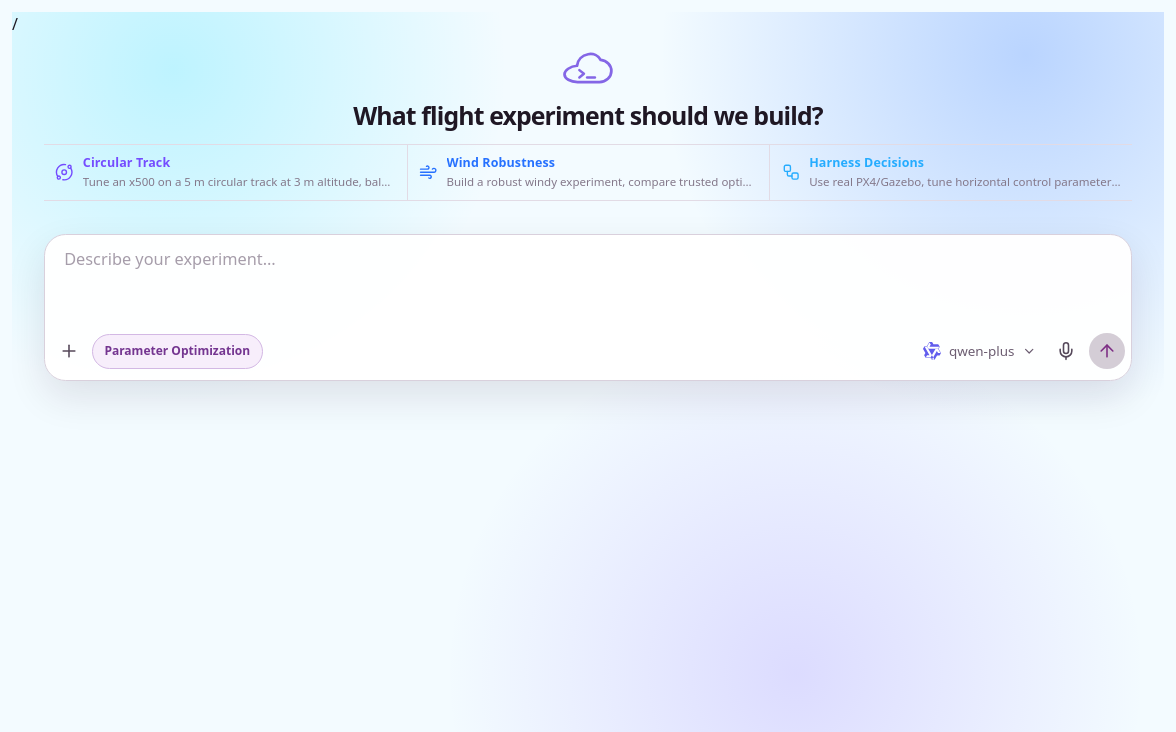
it: conversational experiment drafting › preserves a follow-up typed while the previous turn is pending
Type "Tune one safe circular-track experiment." into the text box labelled "Describe your experiment…" at (588, 281), box [45,235,1131,326]
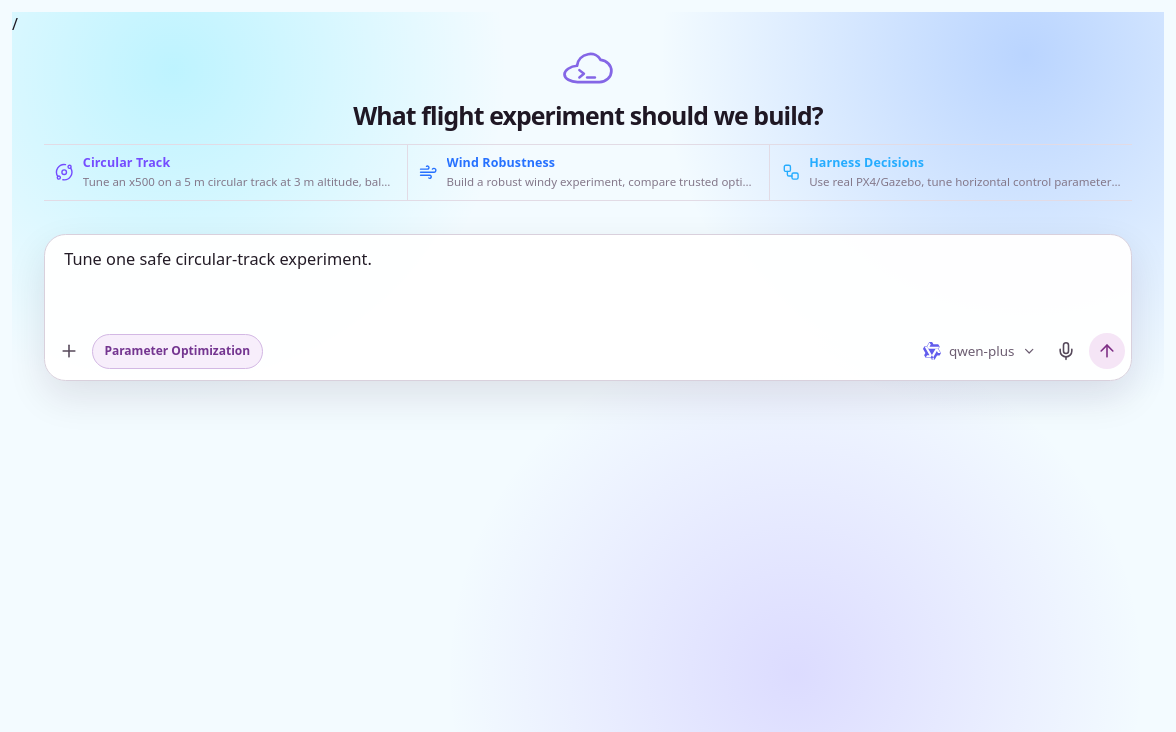
Click the button named "Send" at (1107, 351), box [1089,333,1125,369]
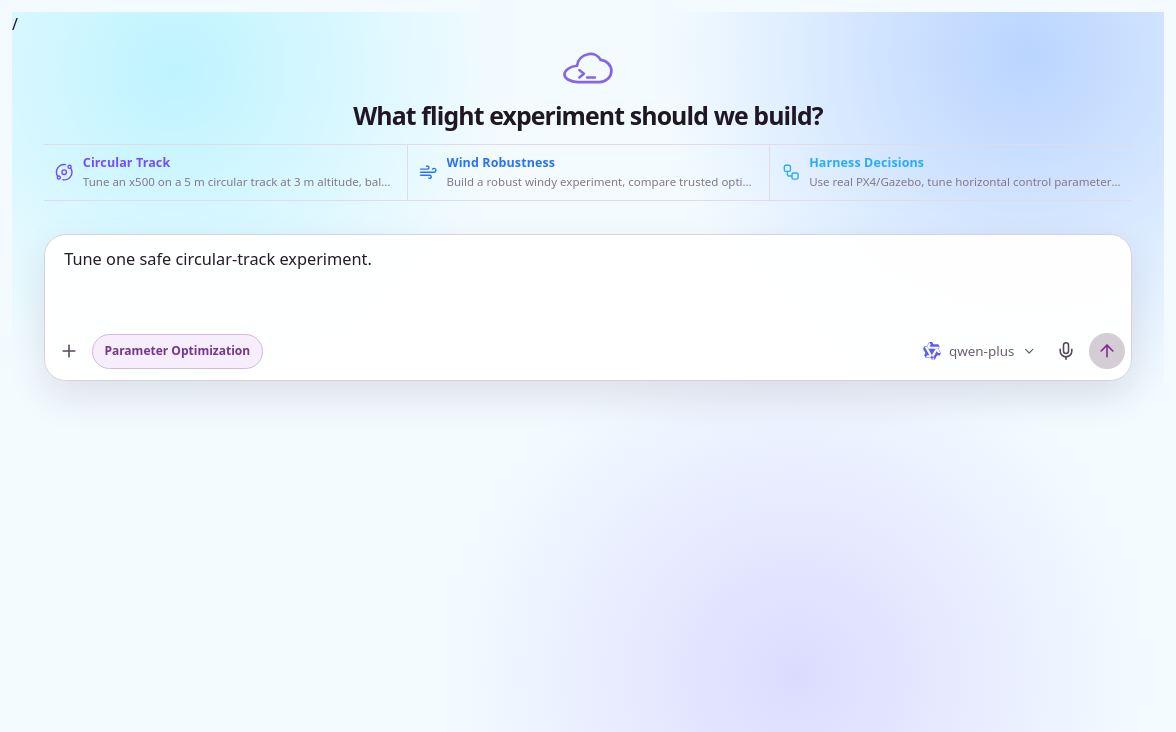
Replace the text in the text box named "Describe your experiment…" with "Also verify the result in a wind holdout." at (588, 281), box [45,235,1131,326]
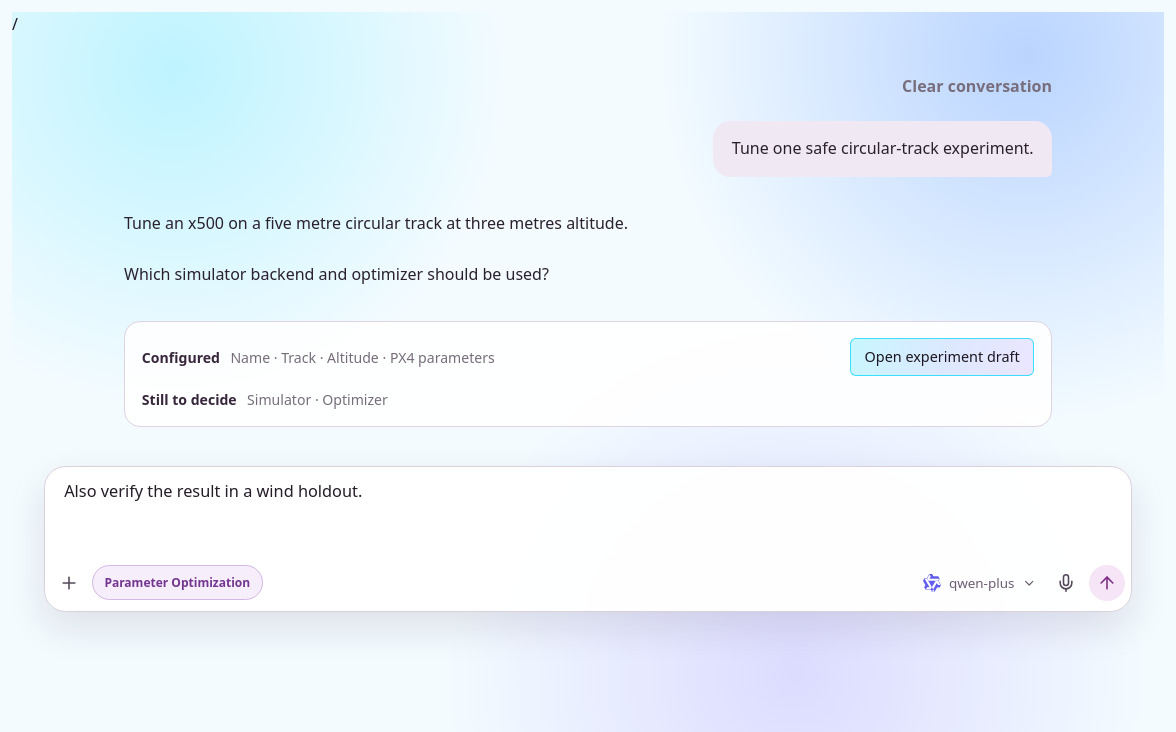
Expected: the text "Tune an x500 on a five metre circular track" is shown, [124,212,628,285]
